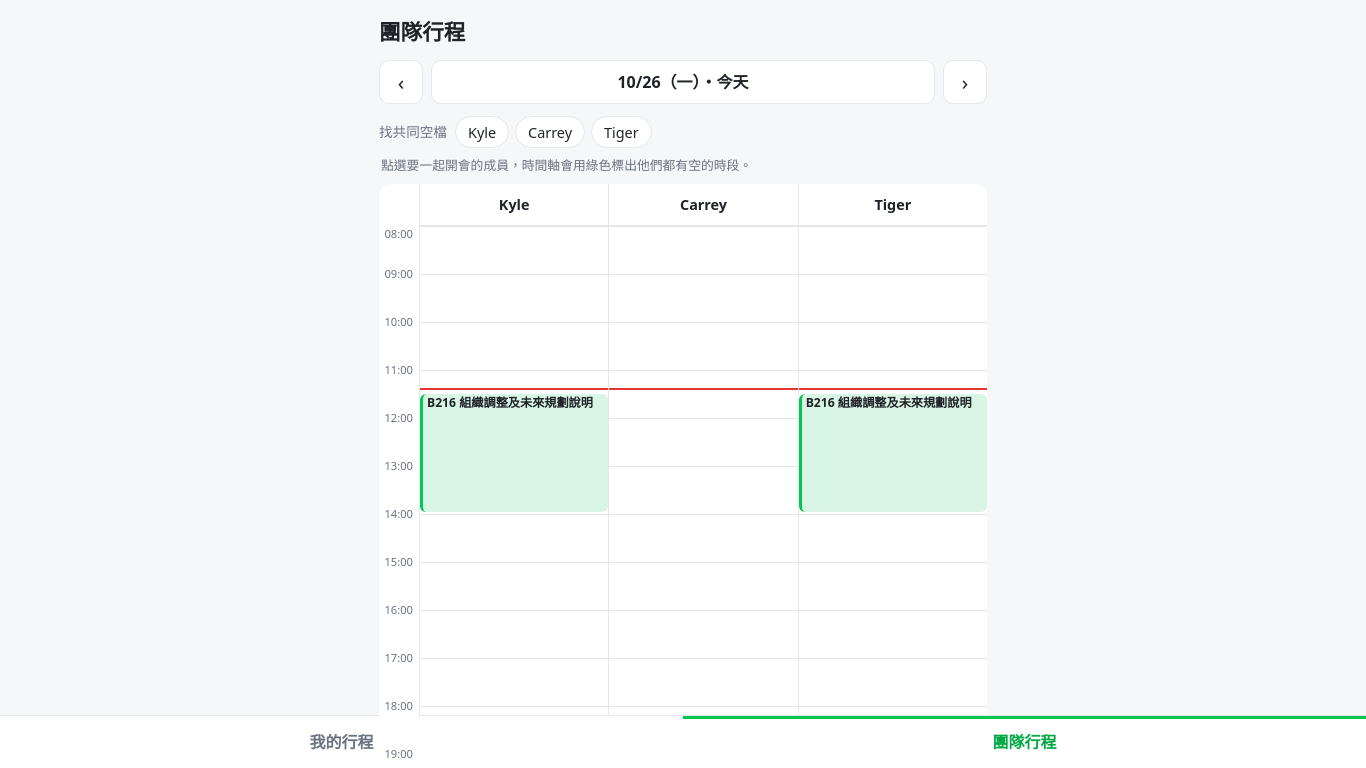
it: timeline puts a shared meeting in every attendee's column and shows details on tap
The width and height of the screenshot is (1366, 768).
Check: the number of buttons "B216 組織調整及未來規劃說明" is 2, box [420,394,608,512]; [799,394,987,512]
Check: the text "點選要一起開會的成員，時間軸會用綠色標出他們都有空的時段。" is shown, box [381,156,752,174]
Click the button "Carrey" at (550, 132), box [515,116,585,148]
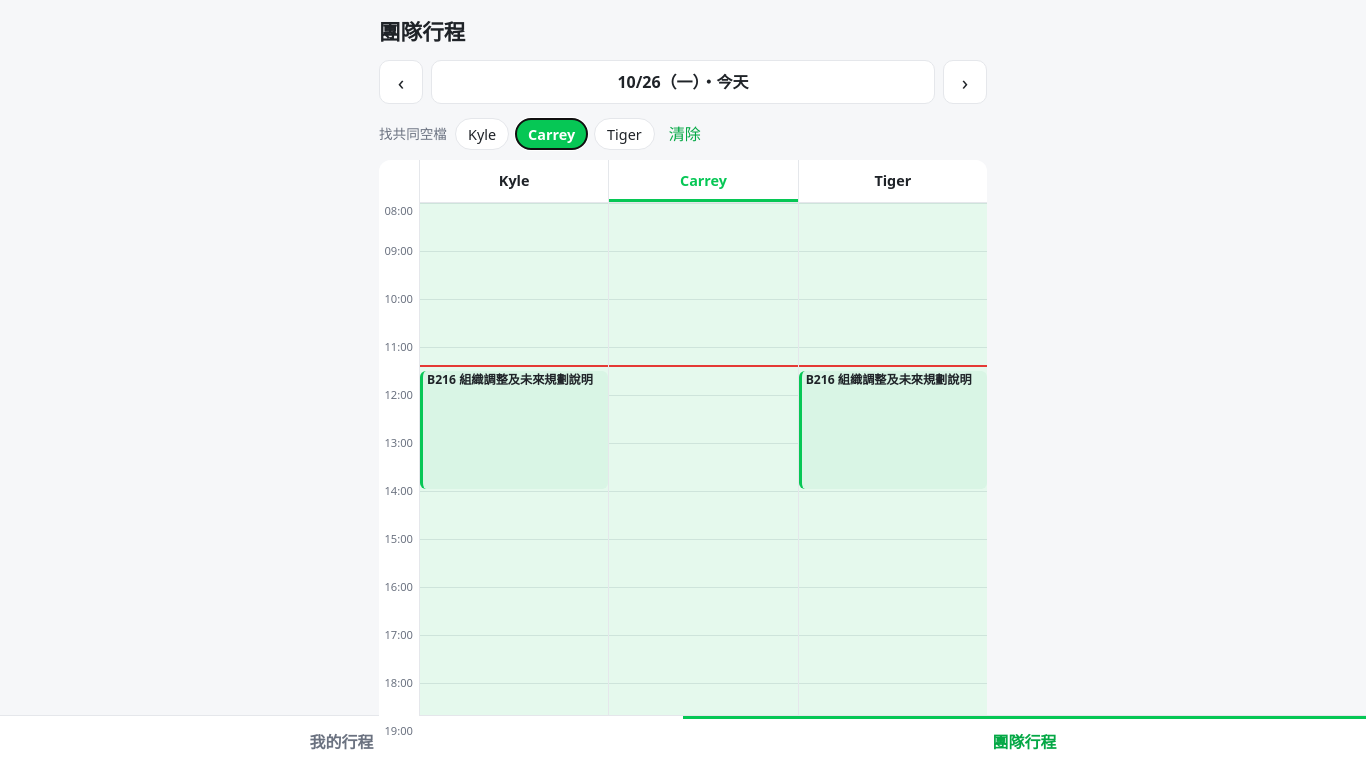
Click the button "Tiger" at (624, 134), box [594,118,655,150]
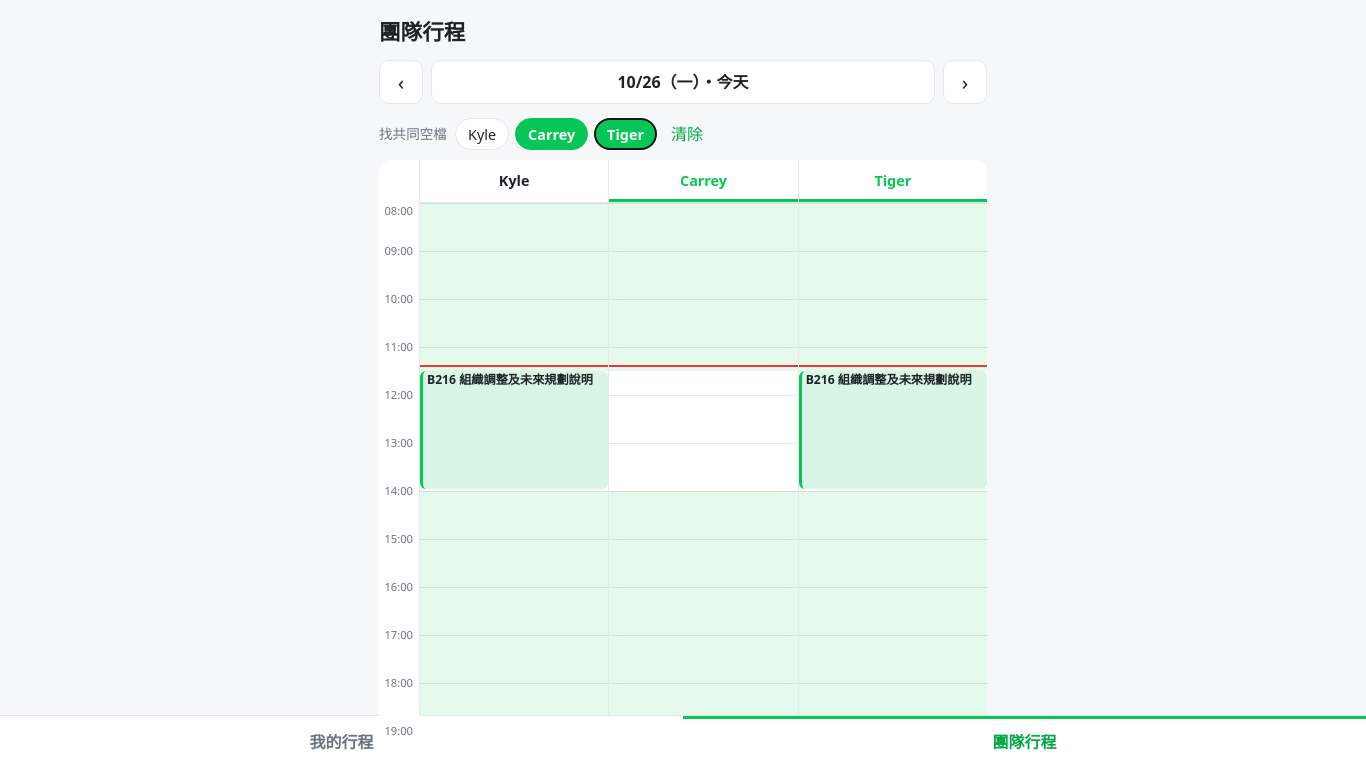
Click the button "清除" at (687, 134), box [663,116,711,152]
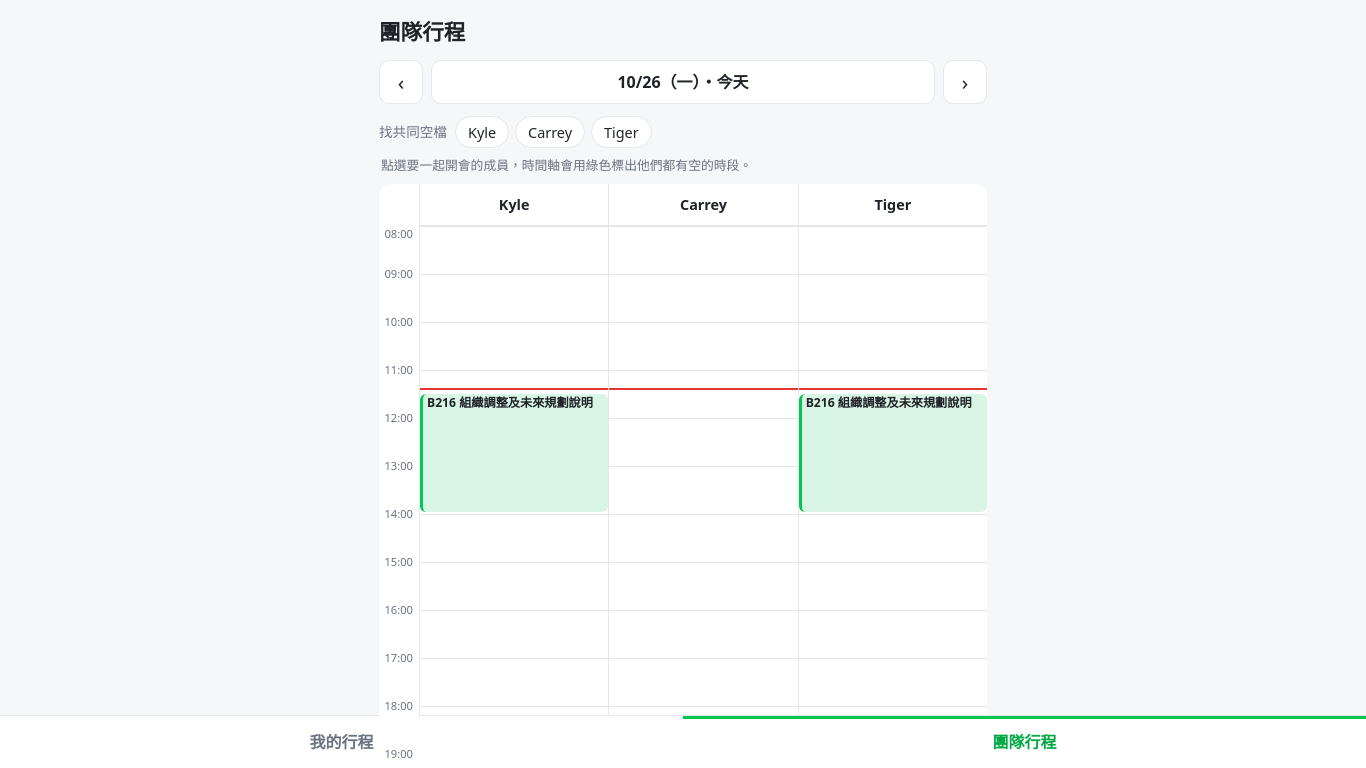
Click the 1st button "B216 組織調整及未來規劃說明" at (514, 453), box [420,394,608,512]
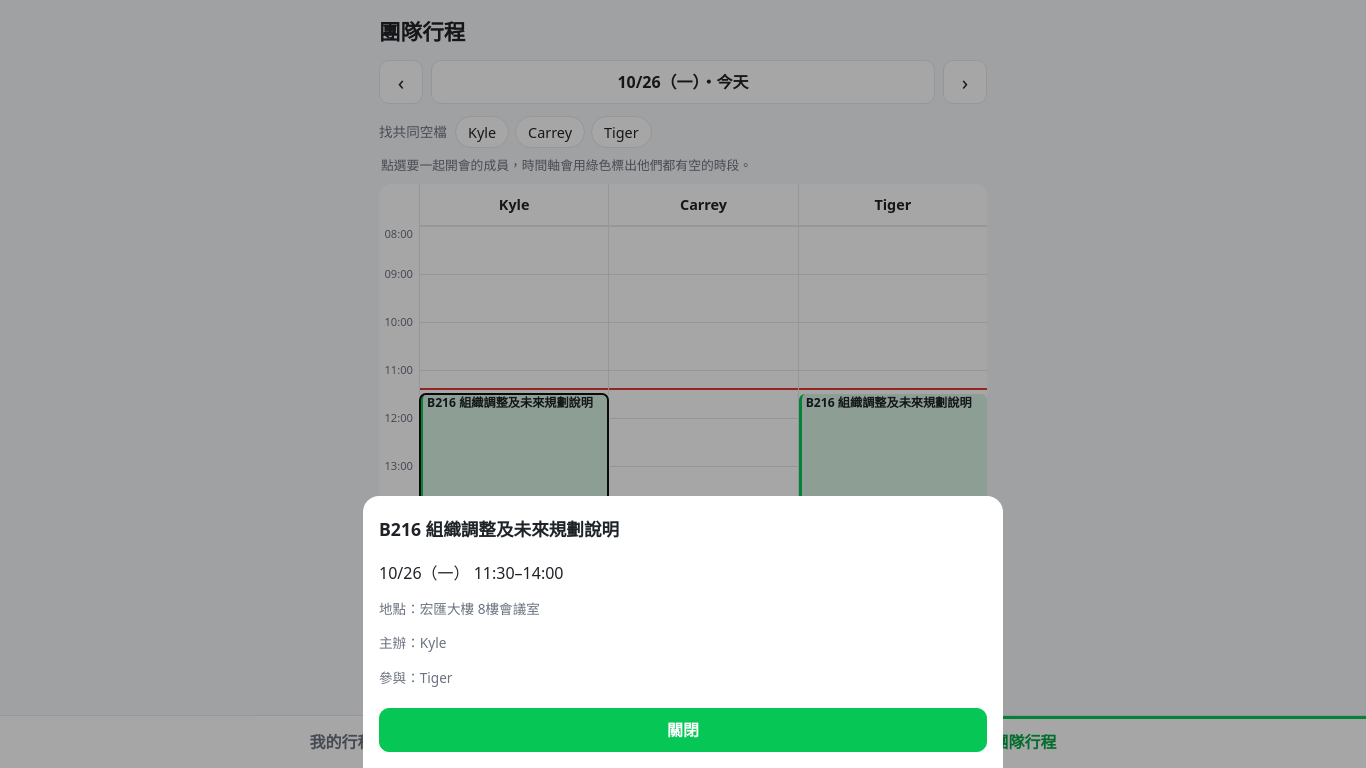
Check: the text "主辦：Kyle" is shown, box [379,633,446,652]
Check: the text "參與：Tiger" is shown, box [379,668,452,687]
Check: the text "地點：宏匯大樓 8樓會議室" is shown, box [379,599,540,618]
Click the button "關閉" at (683, 730), box [379,708,987,752]
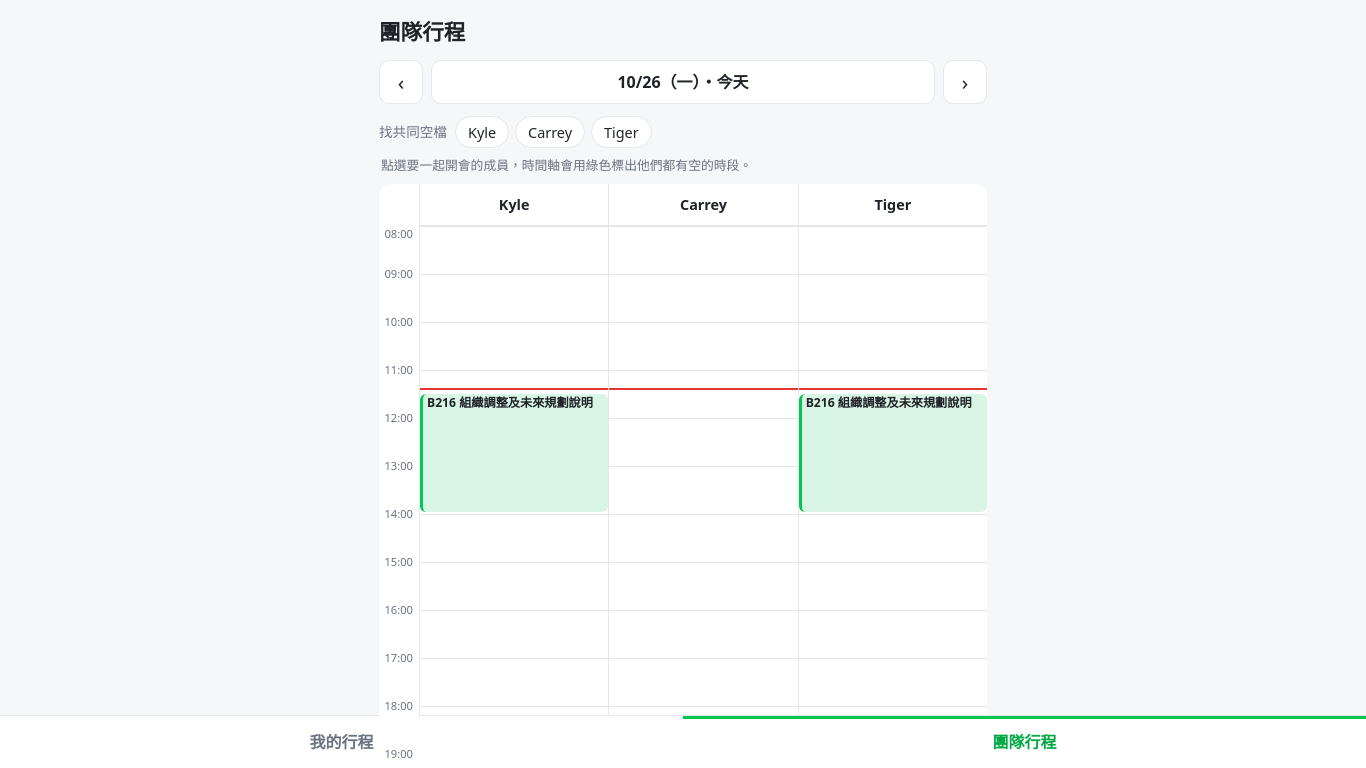
Check: the dialog is gone
